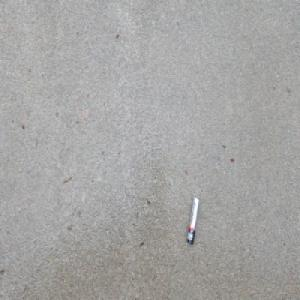Battery: (186, 195, 199, 246)
